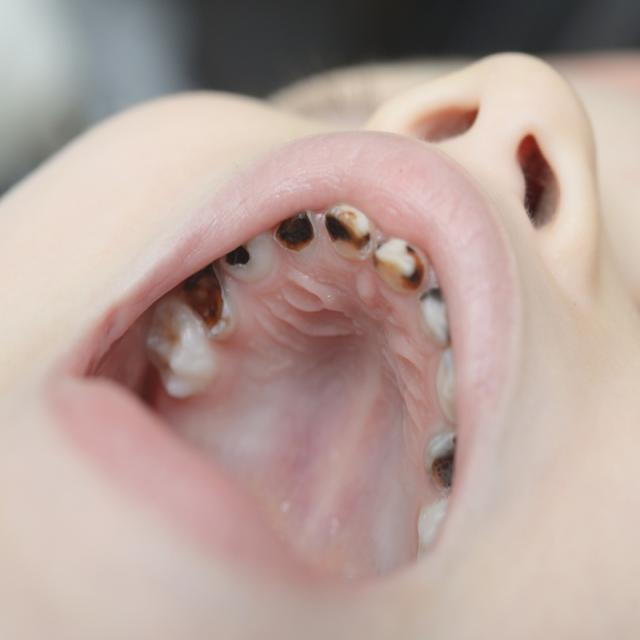Cavity: (136, 313, 201, 381), (374, 233, 425, 296), (175, 270, 226, 332), (327, 212, 373, 262), (423, 433, 457, 488), (419, 277, 446, 343), (272, 215, 314, 257), (225, 241, 267, 279)
